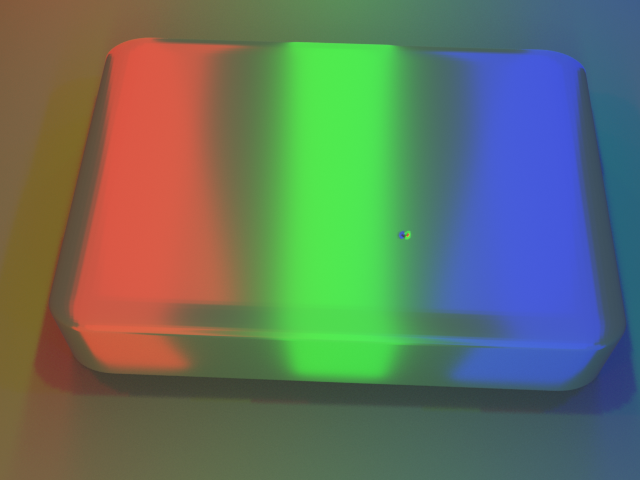dent: (397, 222, 428, 258)
